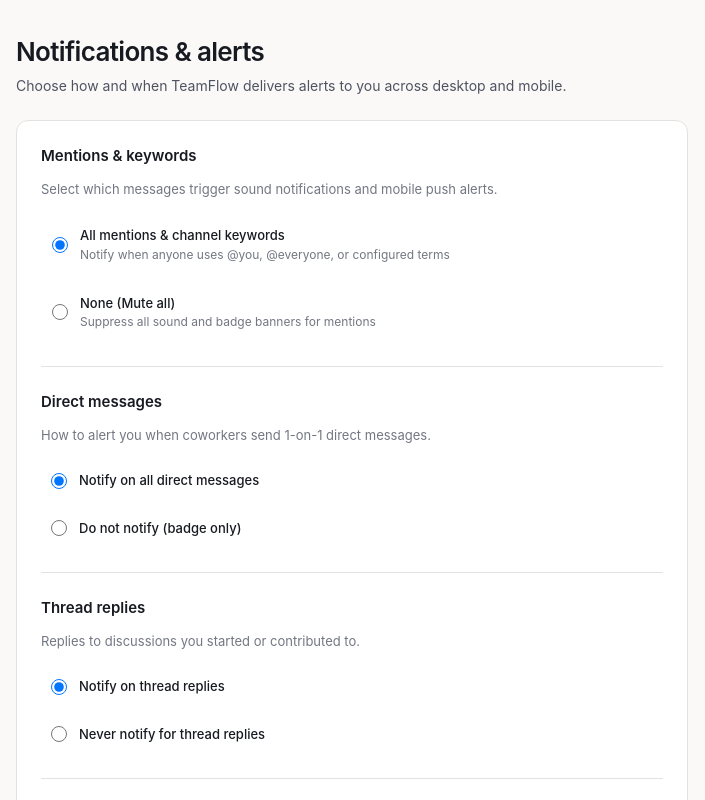
Test: SettingsNotificationsView › saves dirty preferences on form submit
The width and height of the screenshot is (705, 800).
Check: the element "Mentions" is shown, box [41, 145, 663, 367]
Click the radio button labelled "None (Mute all)": {"x": 60, "y": 312} [52, 304, 68, 320]
(page scrolled)
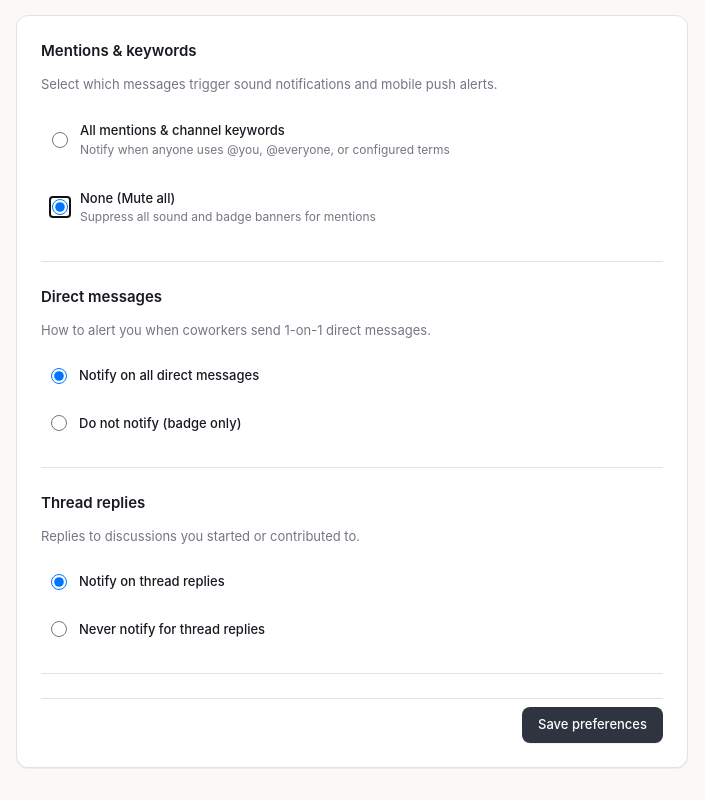
Check: the button "Save preferences" is enabled
Click the button "Save preferences": {"x": 592, "y": 725} [522, 707, 663, 742]
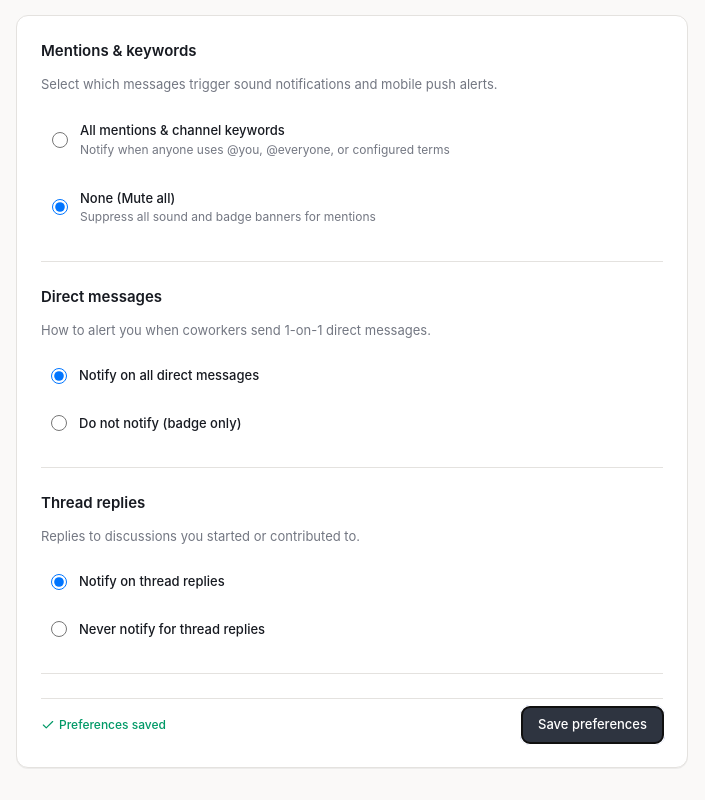
Check: the text "Preferences saved" is shown, box [59, 716, 166, 734]
